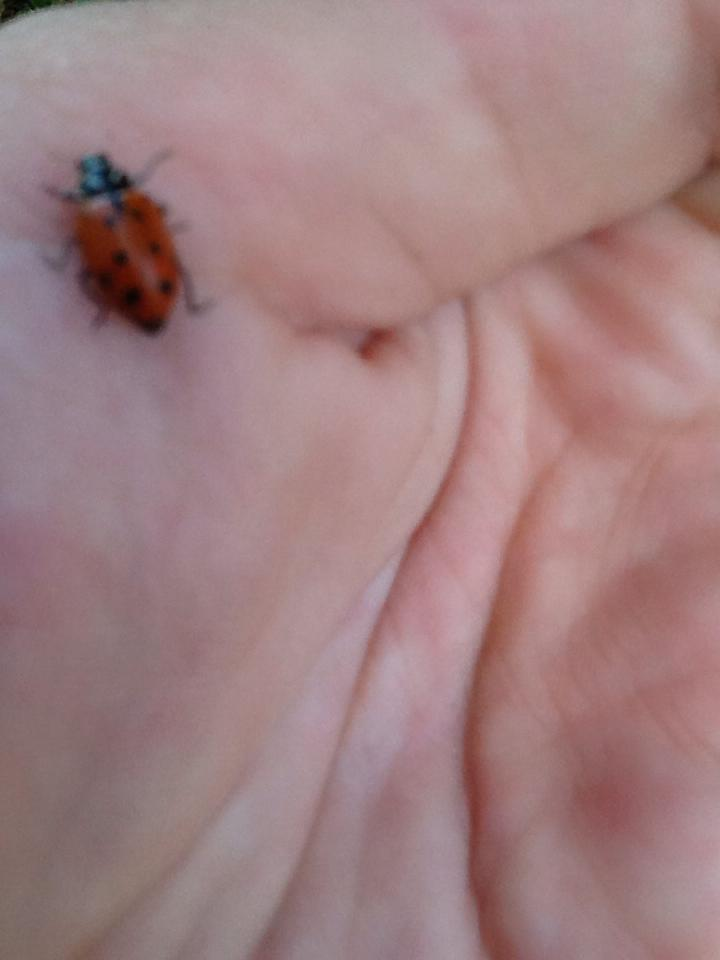ladybug: (41, 141, 219, 339)
